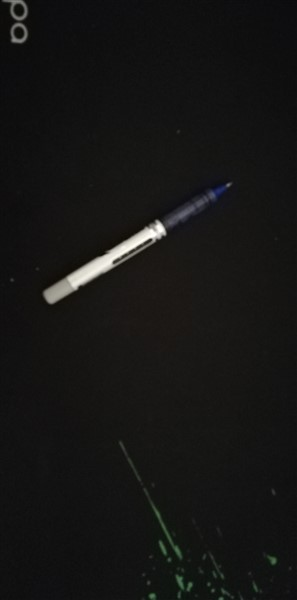pilot kalem: (39, 175, 239, 311)
